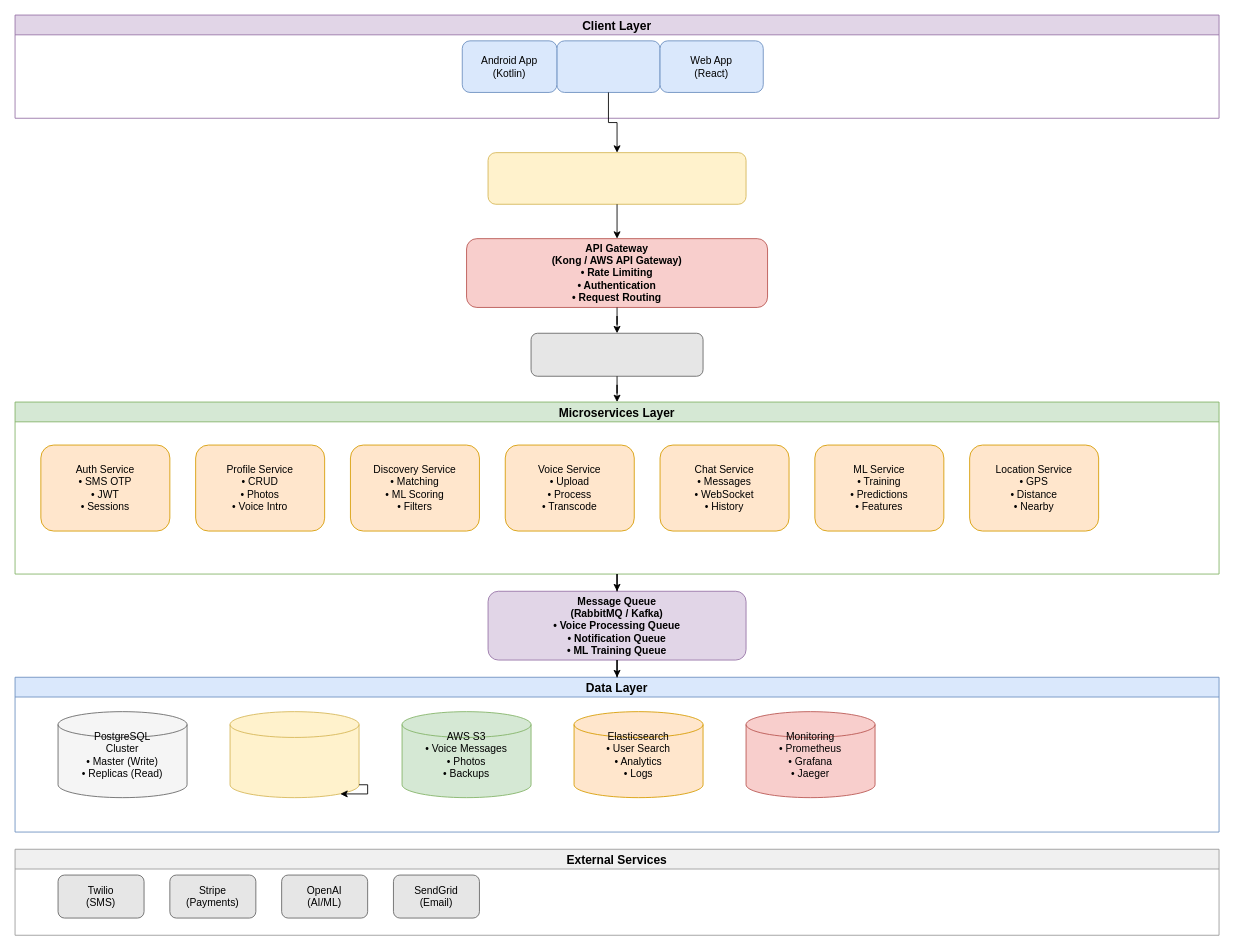
Image size: 1234x950. Some labels were removed from this diagram. Each missing label, with the centre of its shape:
"CloudFlare CDN (Static Assets, Voice Files)" belongs at (x=616, y=178).
"iOS App (SwiftUI)" belongs at (x=608, y=66).
"Load Balancer (NGINX / AWS ALB)" belongs at (x=616, y=354).
"Redis Cluster • Session Cache • User Profiles • OTP Storage" belongs at (x=294, y=754).
